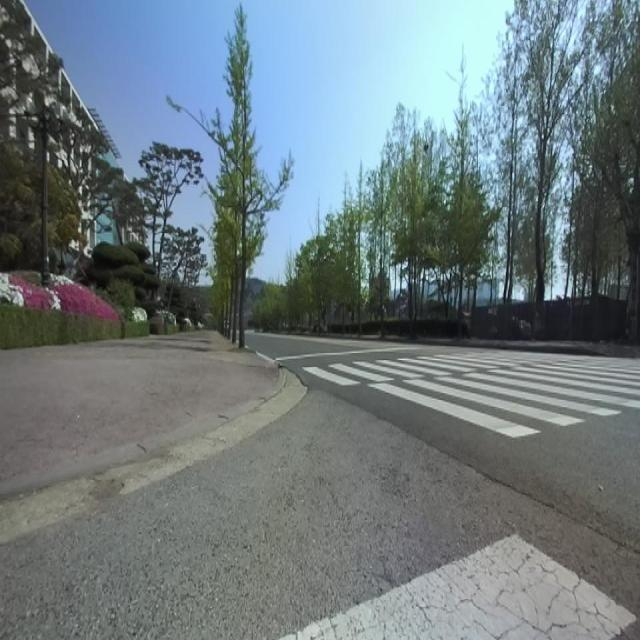sidewalk: (0, 331, 281, 498)
